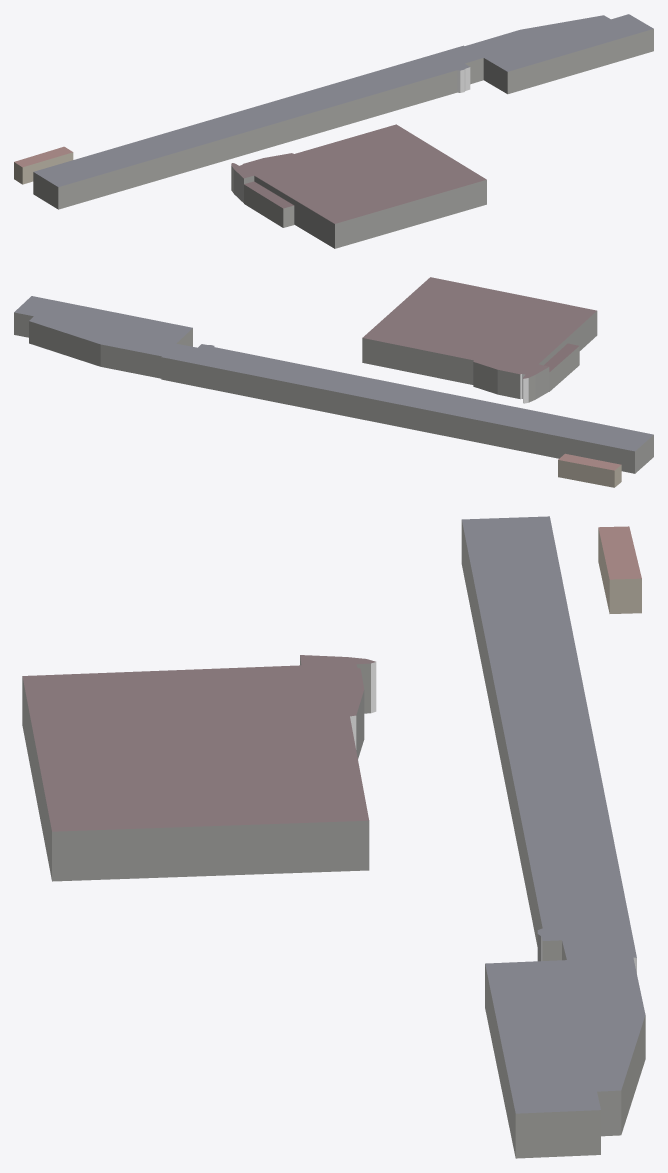
3 views of the same model, one above another, from view 1: azimuth 30°, elevation 25°; view 2: azimuth 150°, elevation 25°; view 3: azimuth 270°, elevation 25° (orthographic). The views are drawn at different scales.
Parts seen in each view (by area): view 1: tuile; view 2: tuile; view 3: tuile.
Boxes of the visible parts, x1,y1,x2,y2 form: tuile: [14, 14, 653, 248]; tuile: [14, 277, 653, 487]; tuile: [22, 516, 645, 1158].
Bounding box in the file's own units: 315 × 12.48 × 139.
